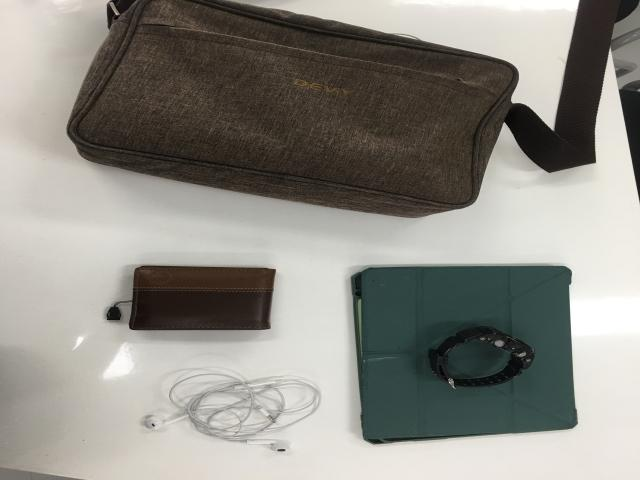Watch: (125, 266, 276, 334), (424, 323, 537, 391)
wire: (141, 369, 324, 454)
